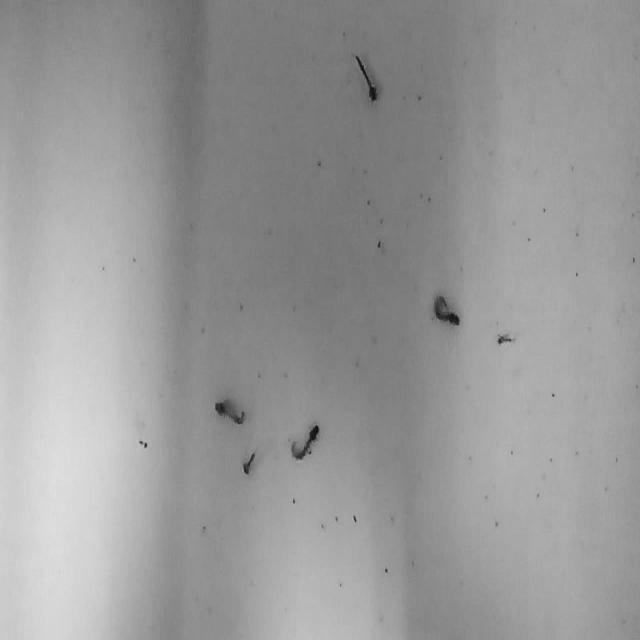larvas: (290, 423, 320, 459), (354, 54, 376, 103), (432, 294, 460, 326), (214, 398, 244, 425), (242, 451, 255, 474), (496, 333, 516, 342)
